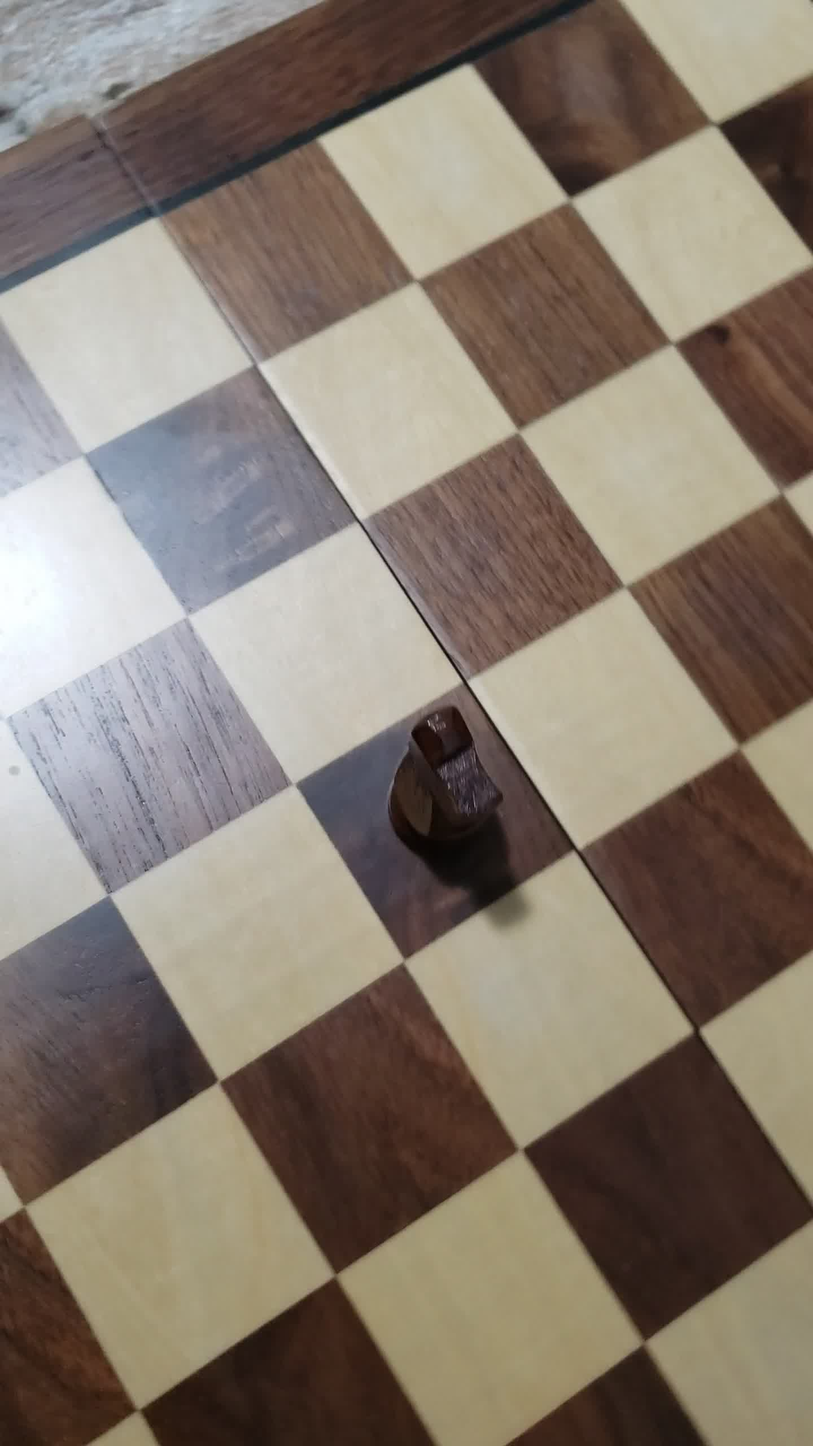black-knight: (347, 692, 528, 904)
